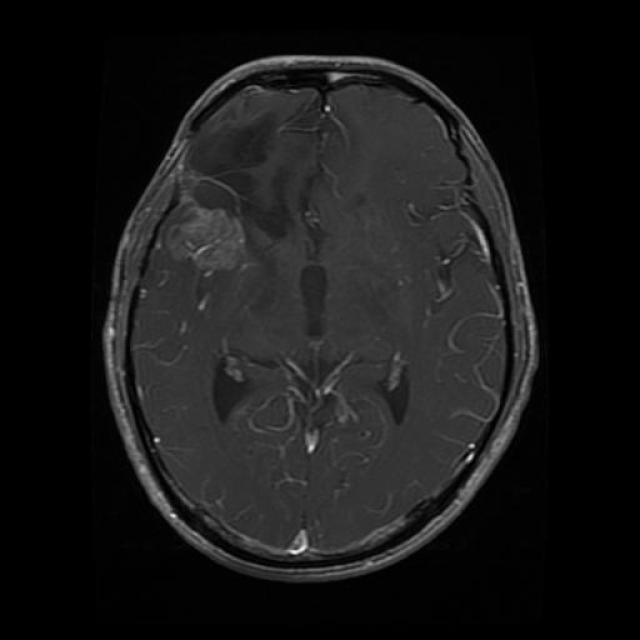Glioma: (164, 202, 246, 274)
